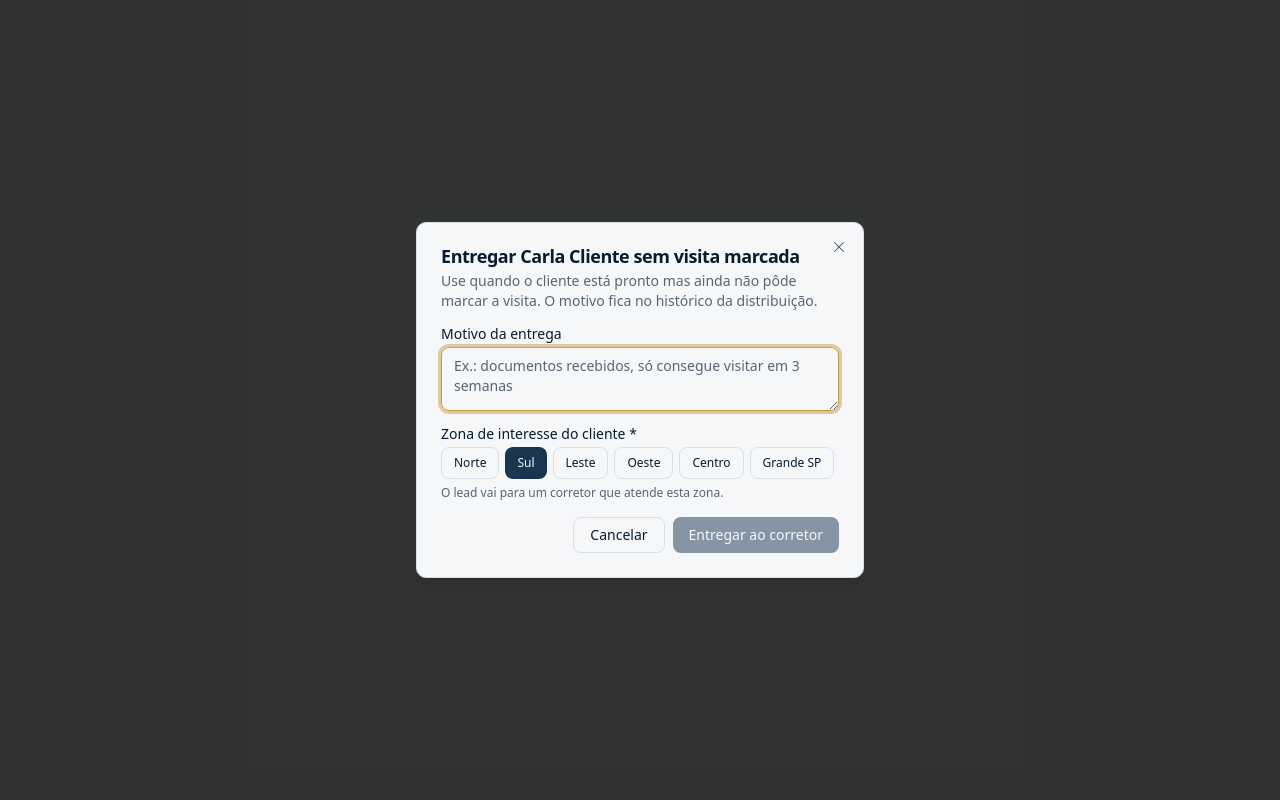
Test: EntregarLeadSdrDialog › a zona que a ficha já indica entra como sugestão; o SDR pode trocar
Later steps or results of the test are not shown.
Click the radio button labelled "Norte" at (470, 463), box [441,447,499,479]
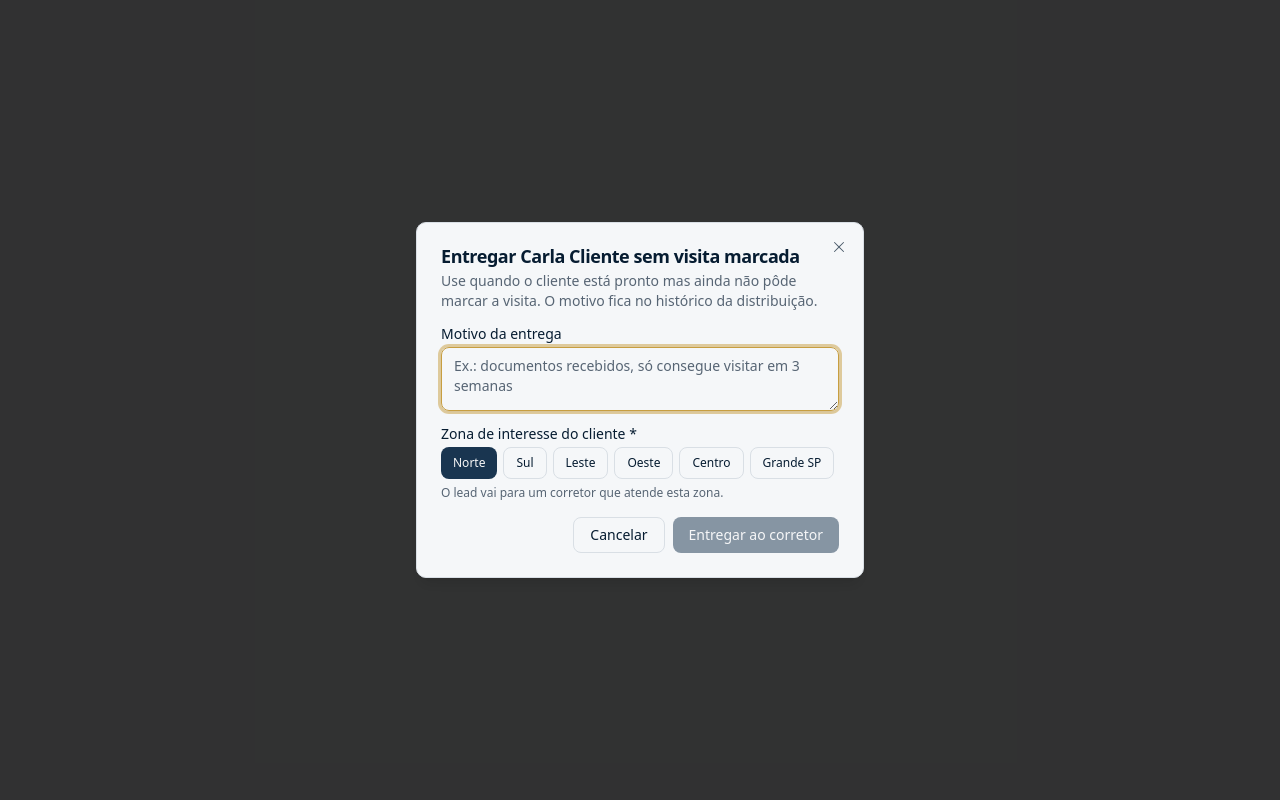
Now the radio button labelled "Norte" is checked, box [441,447,497,479]
